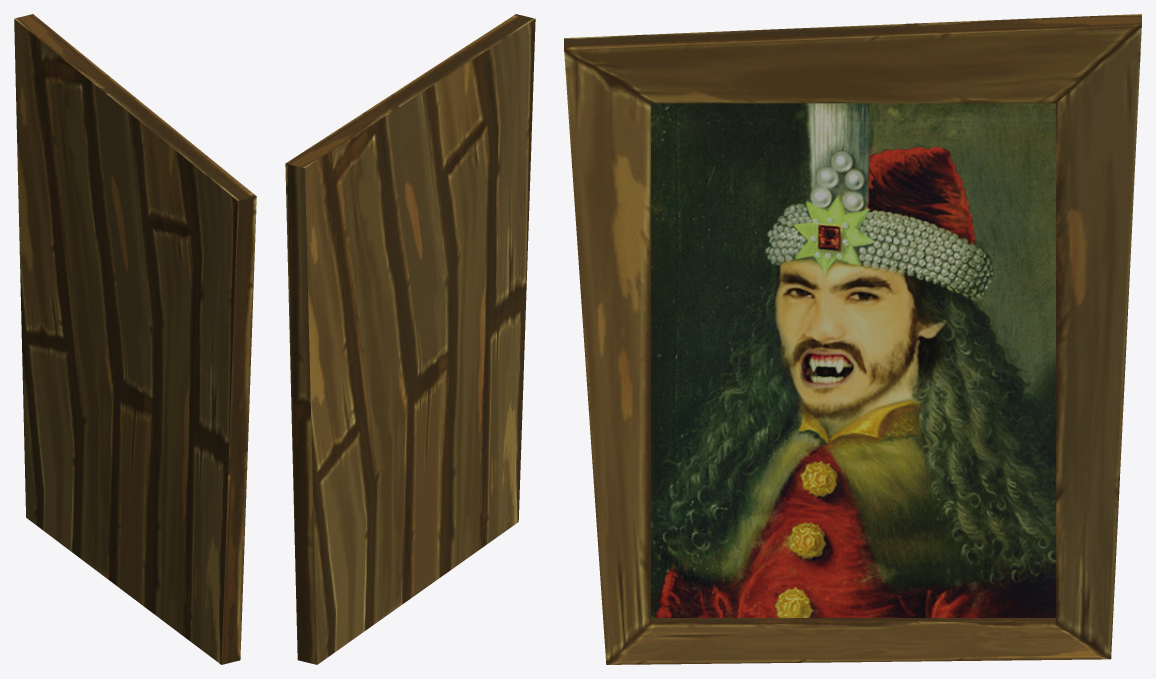
Rendered from picture2.glb.
3 views of the same model, side by side, from view 1: azimuth 30°, elevation 25°; view 2: azimuth 150°, elevation 25°; view 3: azimuth 270°, elevation 25° (orthographic). The views are drawn at different scales.
Parts seen in each view (by area): view 1: picture_shibula_angry; view 2: picture_shibula_angry; view 3: picture_shibula_angry.
Boxes of the visible parts, x1,y1,x2,y2 form: picture_shibula_angry: (14,14,256,664); picture_shibula_angry: (285,14,535,664); picture_shibula_angry: (564,14,1141,664).
Size of what is drawn, in the model's own units: 0.277 by 6.9 by 5.65.
2 materials, 2 textured.
